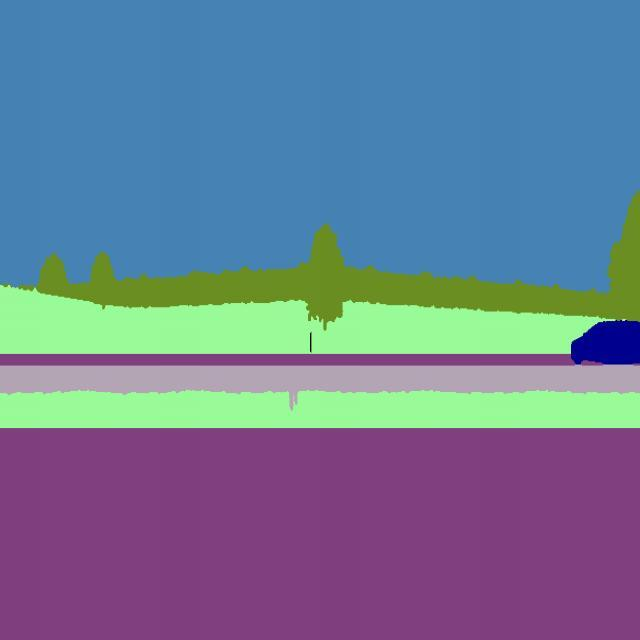safe: (566, 312, 640, 366)
